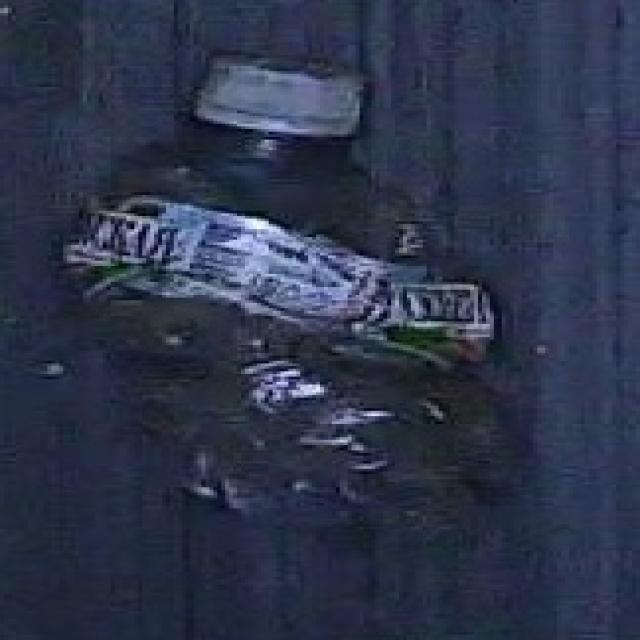litter: (80, 47, 532, 547)
